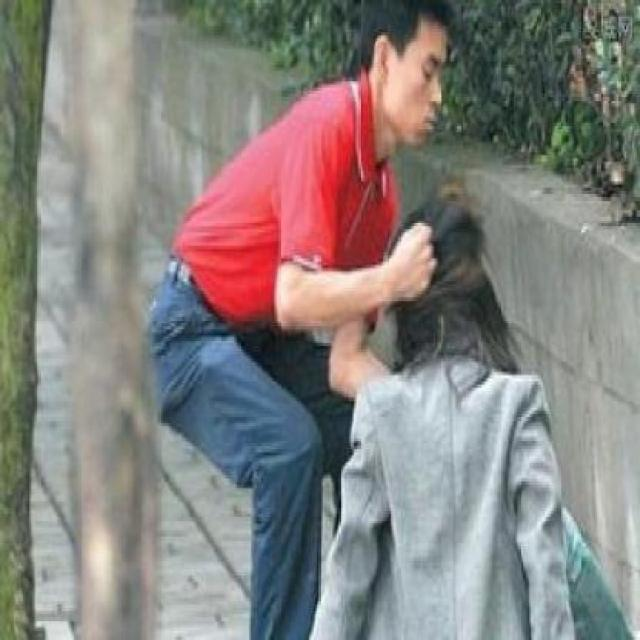fall: (292, 184, 625, 634)
